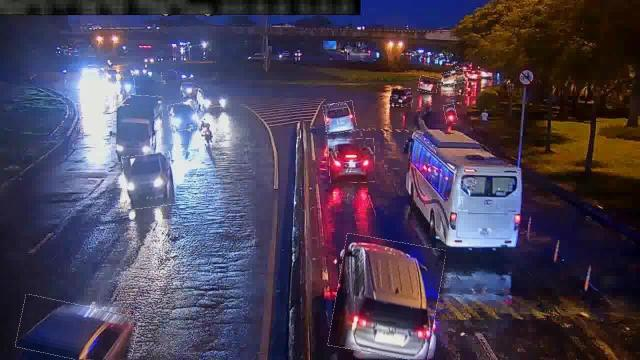Bike: (198, 120, 214, 144), (444, 104, 456, 124)
Car: (332, 237, 442, 358), (18, 300, 138, 360), (124, 154, 174, 208), (329, 139, 375, 183), (324, 102, 356, 134), (168, 102, 198, 131), (390, 88, 412, 106), (442, 70, 466, 86), (418, 76, 438, 92)
Truck: (112, 95, 162, 165)
